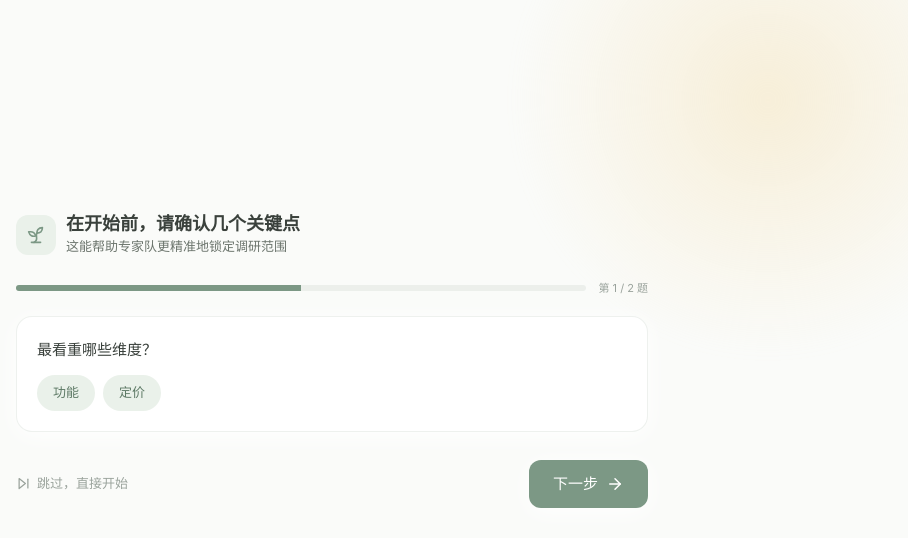
Test case: T-AutoAdvance 自动前进（单选 + 多选） › TC-AA5 多选点「完成本题」立即前进，不等待停顿且不双跳
The width and height of the screenshot is (908, 538).
Check: the text "最看重哪些维度？" is shown, box [37,340,157,359]
Click the button "功能". click: (66, 392)
box: [37,374,95,410]
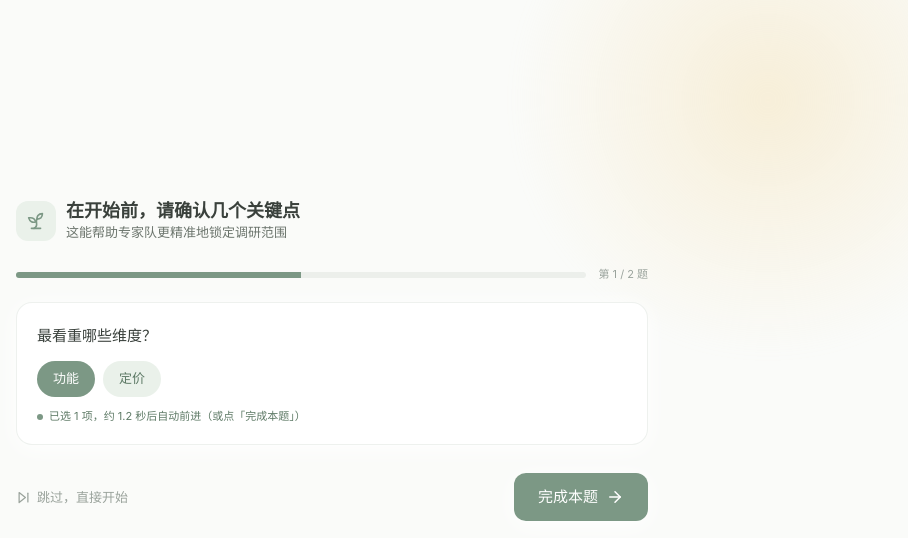
Check: the button "完成本题" is shown
Click the button "完成本题". click: (581, 497)
box: [514,473,648,521]
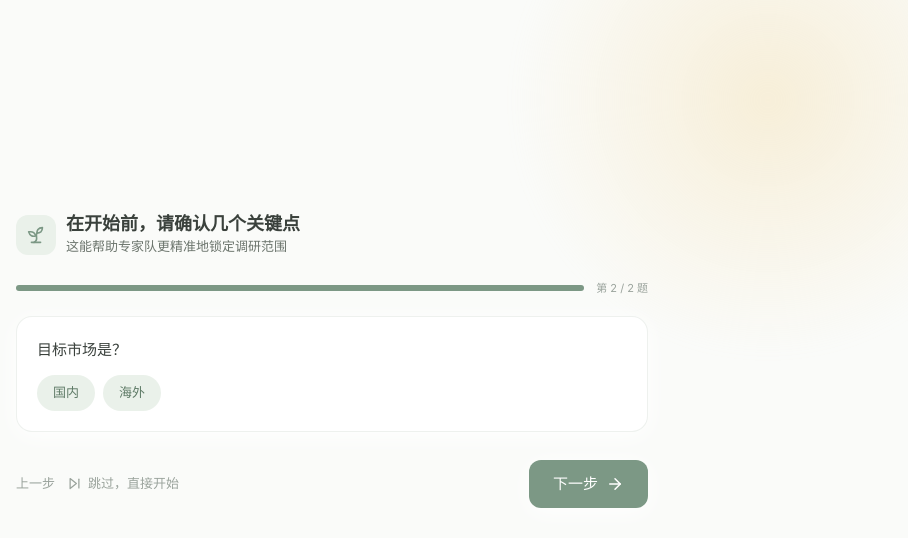
Check: the text "目标市场是？" is shown, box [37,340,127,359]
